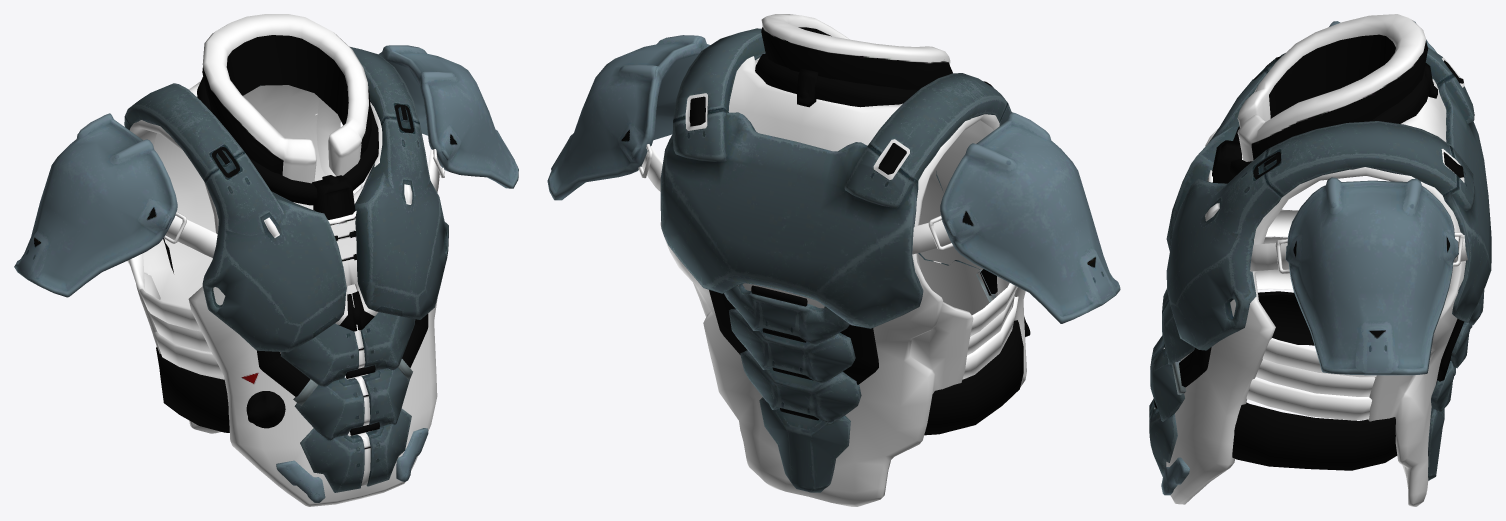
Rendered from SurvivorMale_Armor_TacShell_LOD0.glb.
3 views of the same model, side by side, from view 1: azimuth 30°, elevation 25°; view 2: azimuth 150°, elevation 25°; view 3: azimuth 270°, elevation 25° (orthographic). The views are drawn at different scales.
Visible parts, largest first — view 1: Hoodie; view 2: Hoodie; view 3: Hoodie.
Boxes of the visible parts, <box> form: Hoodie: <box>14,14,518,506</box>; Hoodie: <box>547,14,1120,506</box>; Hoodie: <box>1149,14,1491,506</box>.
Size of the model in its own units: 0.7457 by 0.5941 by 0.4081.
Materials: 1 (1 with a texture image).
